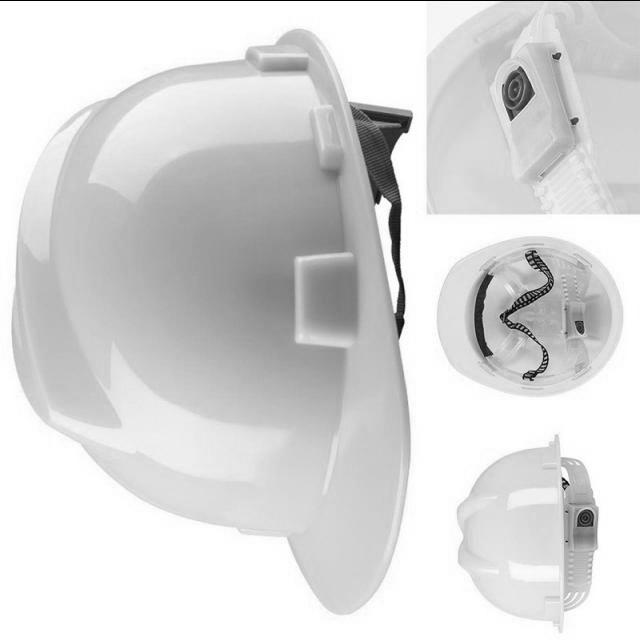construction helmet: (11, 26, 414, 615), (456, 434, 602, 630)
